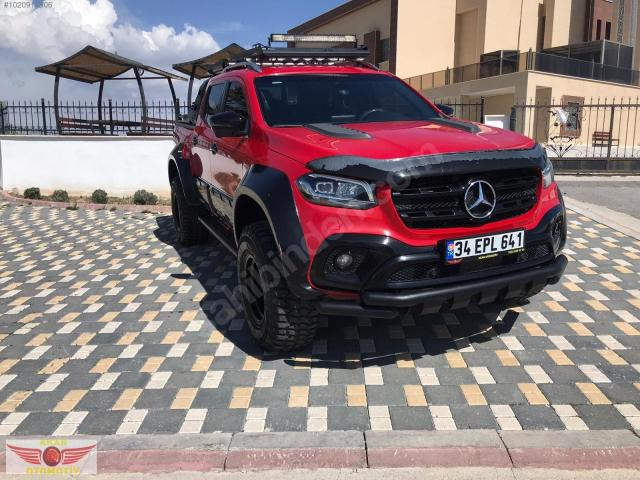plaka: (446, 230, 524, 262)
